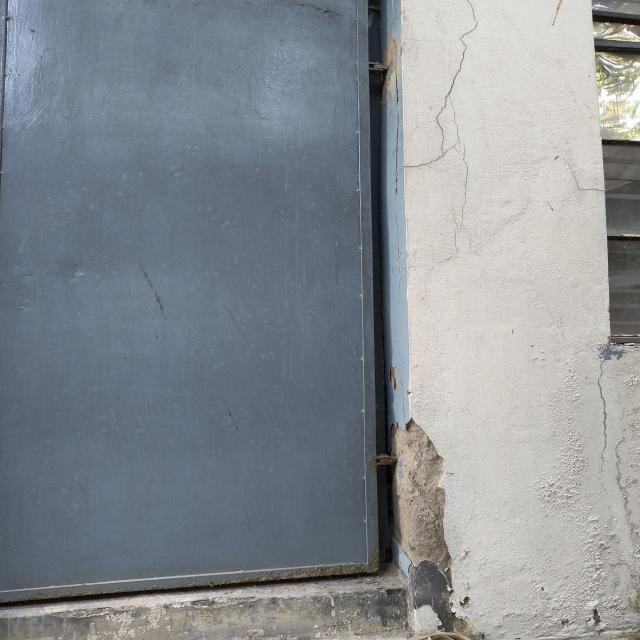Crack: (390, 0, 484, 274), (595, 348, 620, 483)
Paint Peeling: (488, 342, 640, 639)
Scaling: (391, 419, 483, 639)
